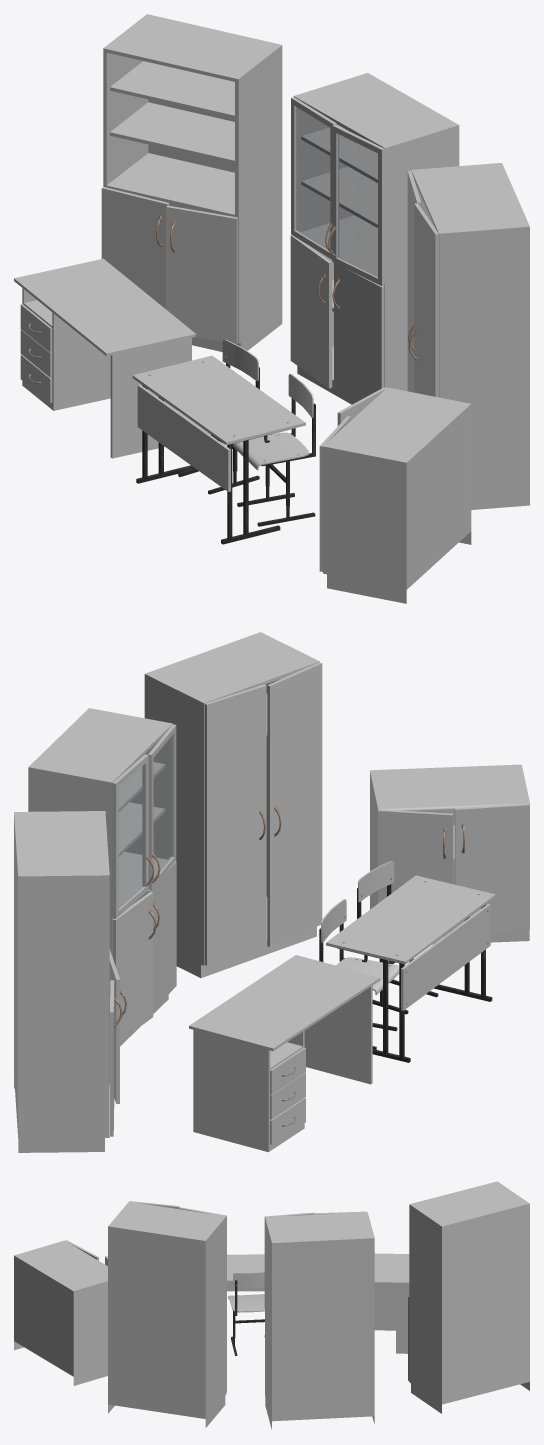
Rendered from (name_conflict)_schoolFurniture.gltf.
The picture shows the model from 3 angles, top to bottom: view 1: azimuth 30°, elevation 25°; view 2: azimuth 150°, elevation 25°; view 3: azimuth 270°, elevation 25°; orthographic projection. The views are drawn at different scales.
Visible parts, largest first — view 1: bookCaseV2_006, bookCaseV2_004, Object025_wood_0, bookCaseV2_005, Object035_wood_0, table_016_wood_0, Object029_wood_0, Object027_wood_0, Object030_wood_0, Object028_wood_0, Box002_parts_0, doorHigh_004 (+12 smaller); view 2: bookCaseV2_006, Object035_wood_0, bookCaseV2_004, doorHigh_005, bookCaseV2_005, doorHigh_004, table_016_wood_0, Object024_wood_0, Object025_wood_0, Object026_wood_0, Object028_wood_0, Box003_parts_0 (+12 smaller); view 3: bookCaseV2_006, bookCaseV2_004, bookCaseV2_005, Object025_wood_0, Object035_wood_0, chair_030_wood_0, table_016_wood_0, chair_030_parts_0.
Boxes of the visible parts, <box> form: bookCaseV2_006: <box>103,14,282,351</box>; bookCaseV2_004: <box>411,163,529,509</box>; Object025_wood_0: <box>323,387,471,603</box>; bookCaseV2_005: <box>293,73,459,404</box>; Object035_wood_0: <box>14,258,195,458</box>; table_016_wood_0: <box>132,355,305,491</box>; Object029_wood_0: <box>166,205,237,344</box>; Object027_wood_0: <box>334,263,384,400</box>; Object030_wood_0: <box>101,187,169,308</box>; Object028_wood_0: <box>290,235,332,388</box>; Box002_parts_0: <box>328,134,377,276</box>; doorHigh_004: <box>408,203,438,397</box>; bookCaseV2_006: <box>14,811,109,1152</box>; Object035_wood_0: <box>189,955,380,1152</box>; bookCaseV2_004: <box>144,632,319,977</box>; doorHigh_005: <box>204,684,266,965</box>; bookCaseV2_005: <box>28,708,172,1046</box>; doorHigh_004: <box>267,662,322,946</box>; table_016_wood_0: <box>326,875,495,1010</box>; Object024_wood_0: <box>454,803,529,931</box>; Object025_wood_0: <box>370,764,529,944</box>; Object026_wood_0: <box>378,809,453,936</box>; Object028_wood_0: <box>112,892,153,1041</box>; Box003_parts_0: <box>119,765,154,908</box>; bookCaseV2_006: <box>409,1181,529,1413</box>; bookCaseV2_004: <box>108,1201,226,1427</box>; bookCaseV2_005: <box>265,1212,374,1429</box>; Object025_wood_0: <box>14,1240,107,1385</box>; Object035_wood_0: <box>374,1253,409,1353</box>; chair_030_wood_0: <box>228,1272,264,1312</box>; table_016_wood_0: <box>227,1254,264,1291</box>; chair_030_parts_0: <box>231,1280,264,1355</box>.
Size of the model in its own units: 2.43 by 2 by 4.99.
